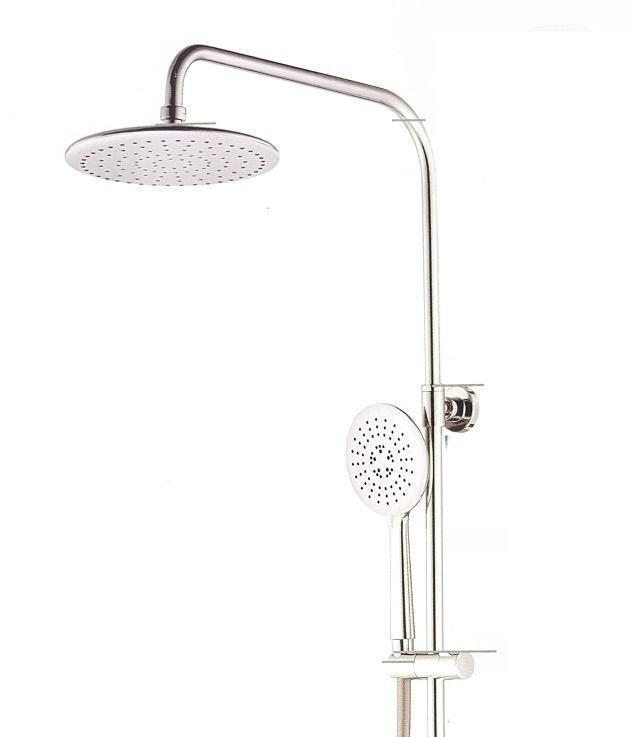Ducha: (47, 38, 513, 736)
